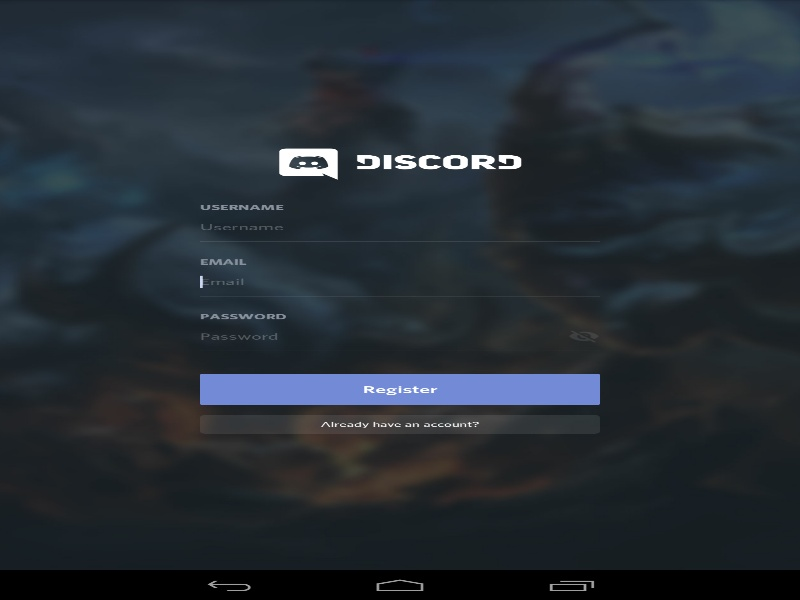Input: (200, 266, 600, 296), (200, 212, 600, 241), (200, 321, 568, 351)
